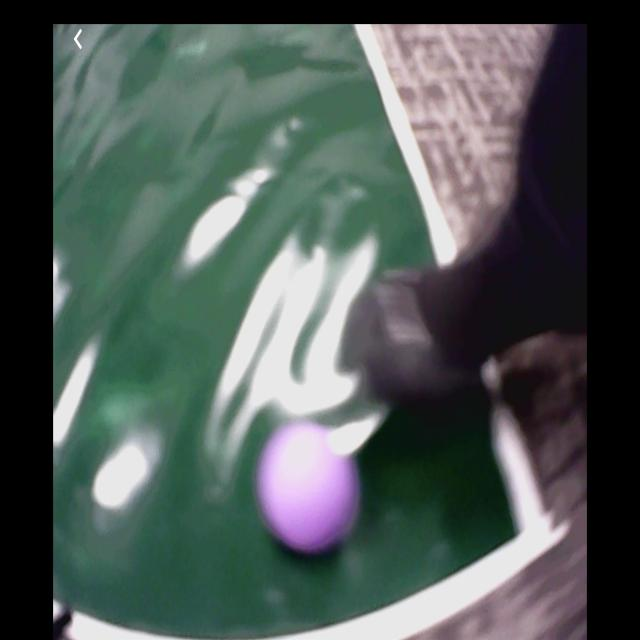ball: (254, 419, 363, 557)
